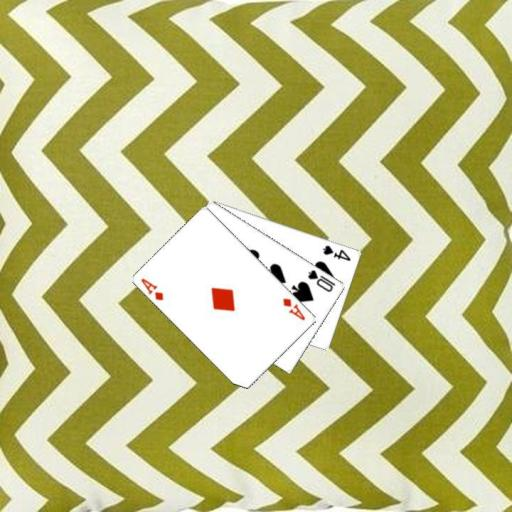10S: (305, 267, 337, 294)
4S: (320, 242, 352, 262)
AD: (280, 295, 307, 322), (138, 275, 165, 302)
